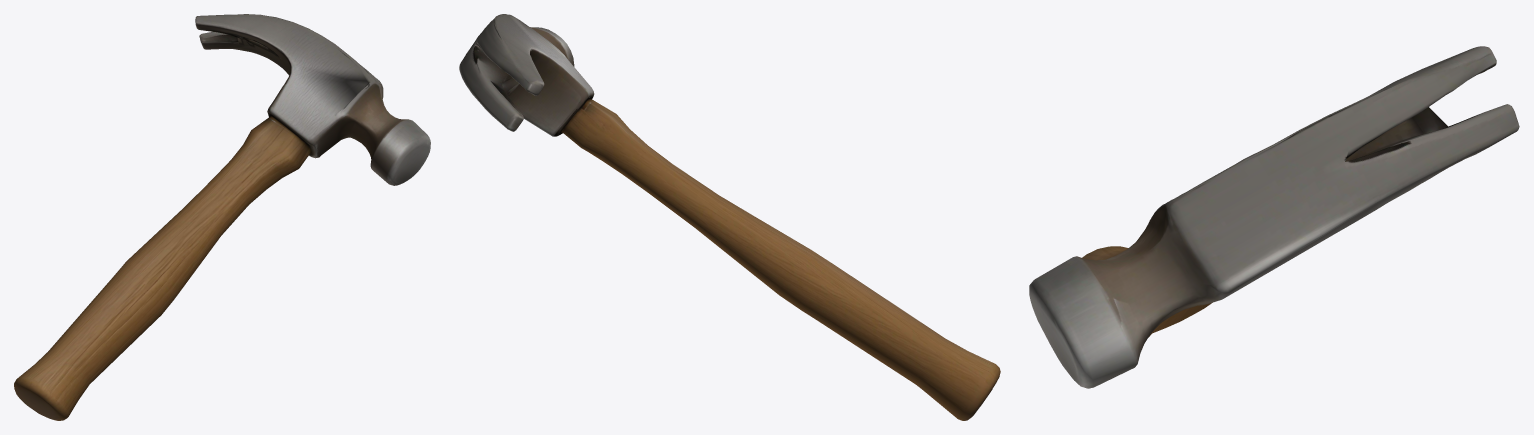
The model's file is primitive_hammer_03695747_v4.glb.
3 renders of one model, left to right at view 1: azimuth 30°, elevation 25°; view 2: azimuth 150°, elevation 25°; view 3: azimuth 270°, elevation 25°, orthographic. The views are drawn at different scales.
Visible parts, largest first — view 1: mesh_input; view 2: mesh_input; view 3: mesh_input.
Boxes of the visible parts, x1,y1,x2,y2 form: mesh_input: (14,14,430,420); mesh_input: (459,14,1000,420); mesh_input: (1029,46,1519,388).
Bounding box in the file's own units: 1.9 × 1.26 × 1.01.
Materials: 1 (1 with a texture image).
